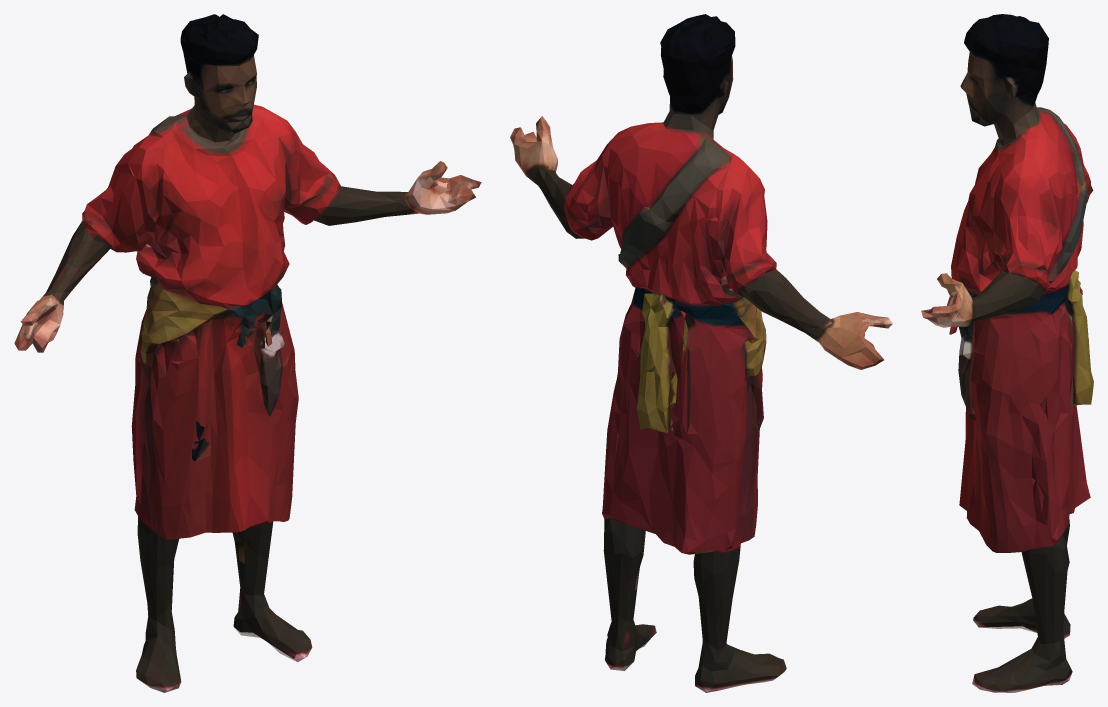
File: palmares_gente_de_guerra.glb
The picture shows the model from 3 angles, left to right: view 1: azimuth 30°, elevation 25°; view 2: azimuth 150°, elevation 25°; view 3: azimuth 270°, elevation 25°; orthographic projection.
Parts seen in each view (by area): view 1: aldeano; view 2: aldeano; view 3: aldeano.
Part boxes in pixels (x1,y1,x2,y2): aldeano: [14, 14, 481, 692]; aldeano: [510, 14, 892, 692]; aldeano: [921, 14, 1093, 692].
Size of the model in its own units: 0.5122 by 0.75 by 0.1848.
Materials: 1 (1 with a texture image).
